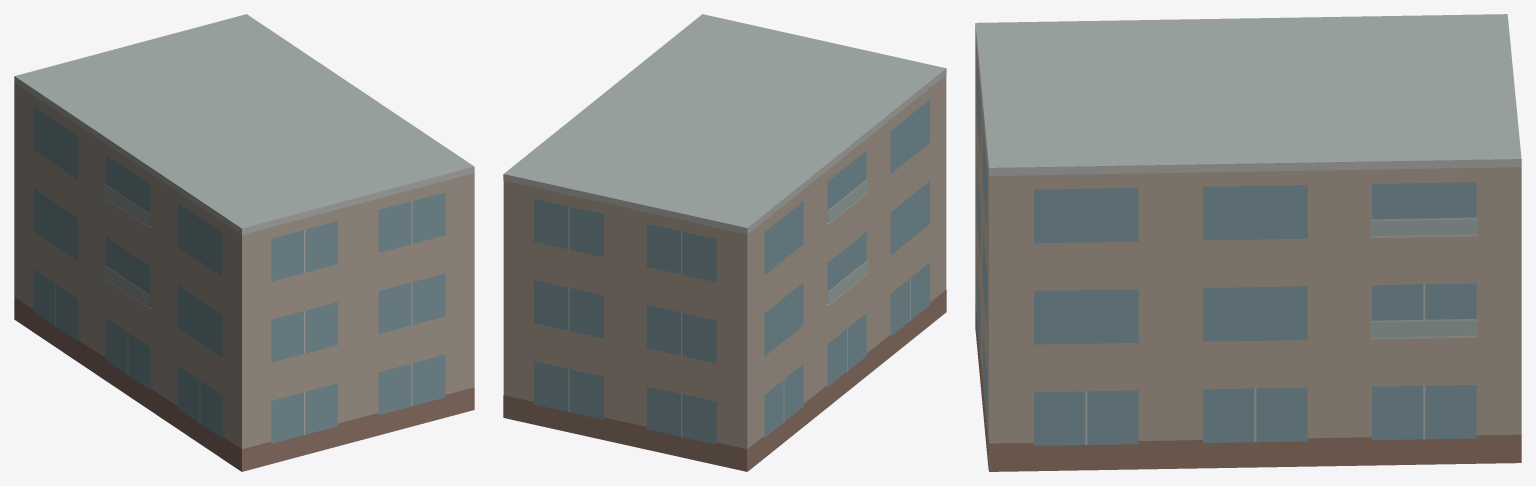
Rendered from survey-upis-32706508.glb.
3 renders of one model, left to right at view 1: azimuth 30°, elevation 25°; view 2: azimuth 150°, elevation 25°; view 3: azimuth 270°, elevation 25°, orthographic. The views are drawn at different scales.
Parts seen in each view (by area): view 1: survey-upis-32706508.tmp; view 2: survey-upis-32706508.tmp; view 3: survey-upis-32706508.tmp.
Boxes of the visible parts, x1=… form: survey-upis-32706508.tmp: x1=14, y1=14, x2=474, y2=471; survey-upis-32706508.tmp: x1=503, y1=14, x2=946, y2=471; survey-upis-32706508.tmp: x1=975, y1=14, x2=1521, y2=471.
Bounding box in the file's own units: 9.95 × 9.15 × 14.91.
